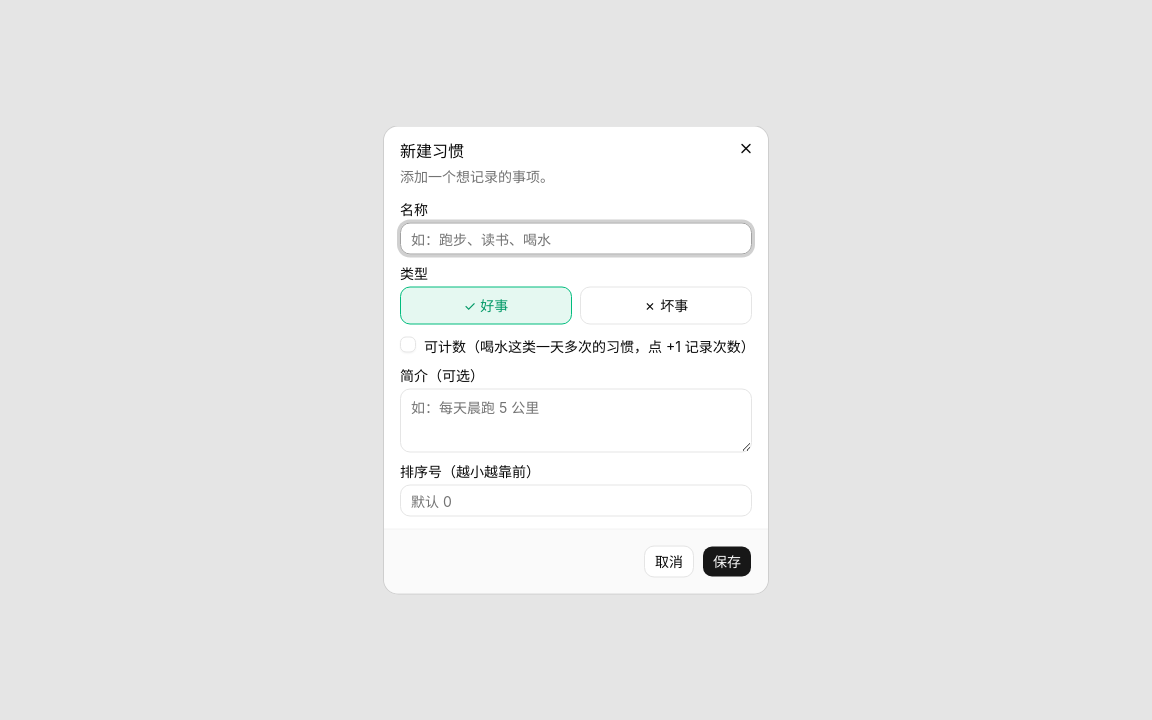
Test: HabitFormDialog · 新建 › 名称为空时不提交并显示错误
The width and height of the screenshot is (1152, 720).
What coordinates should you click on to do the following:
click the button "保存"
I would click on:
 (727, 562)
Its box is top-left (702, 546), bottom-right (752, 578).
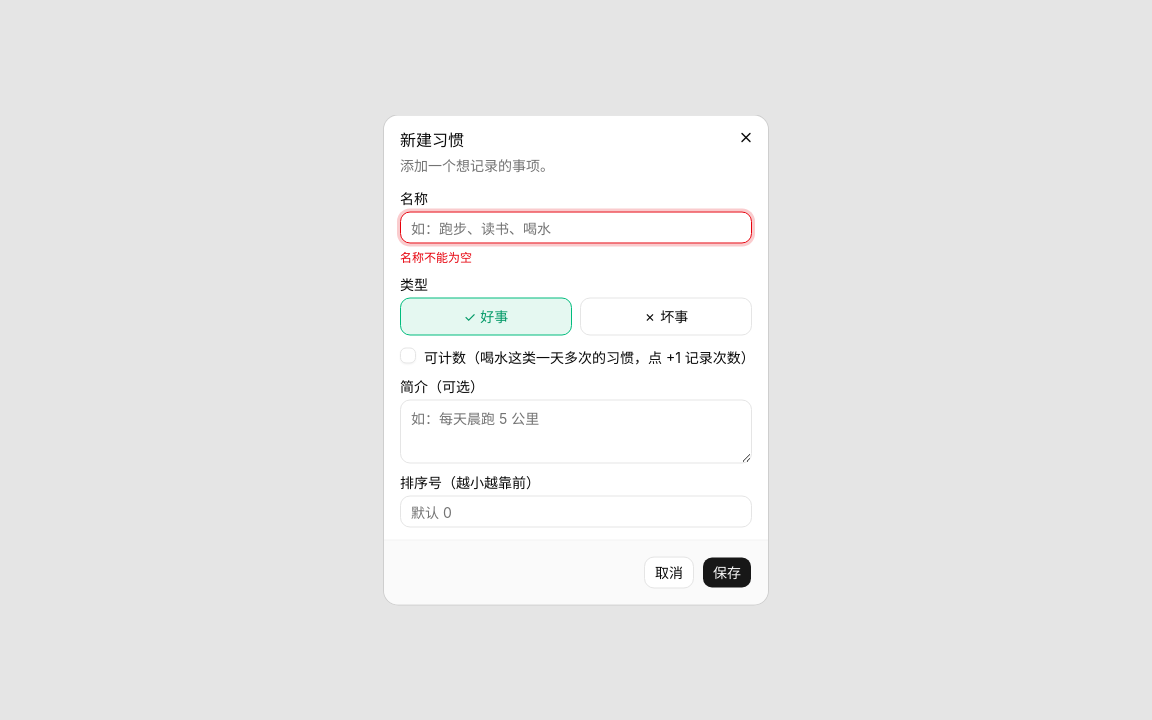
Check: the text "名称不能为空" is shown, box top-left (400, 250), bottom-right (472, 264)
